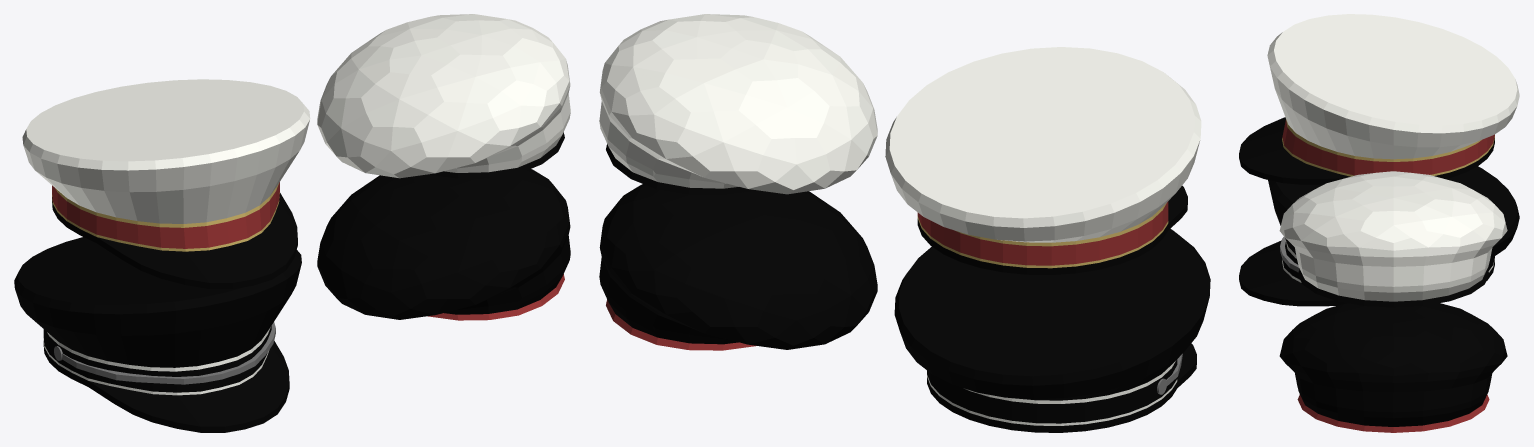
File: hat.fbx
3 views of the same model, side by side, from view 1: azimuth 30°, elevation 25°; view 2: azimuth 150°, elevation 25°; view 3: azimuth 270°, elevation 25° (orthographic). The views are drawn at different scales.
Visible parts, largest first — view 1: hat2, hat, beret, beret2; view 2: hat2, hat, beret, beret2; view 3: hat2, beret, beret2, hat.
Boxes of the visible parts, left/top/right/bottom form: hat2: left=22, top=79, right=310, bottom=289; hat: left=14, top=237, right=301, bottom=432; beret: left=317, top=14, right=570, bottom=178; beret2: left=317, top=169, right=570, bottom=320; hat2: left=885, top=47, right=1201, bottom=274; hat: left=894, top=228, right=1210, bottom=432; beret: left=599, top=14, right=877, bottom=194; beret2: left=599, top=184, right=877, bottom=350; hat2: left=1239, top=14, right=1519, bottom=184; beret: left=1279, top=171, right=1507, bottom=307; beret2: left=1279, top=303, right=1507, bottom=432; hat: left=1239, top=166, right=1519, bottom=306.
Bounding box in the file's own units: 386 × 186 × 203.
